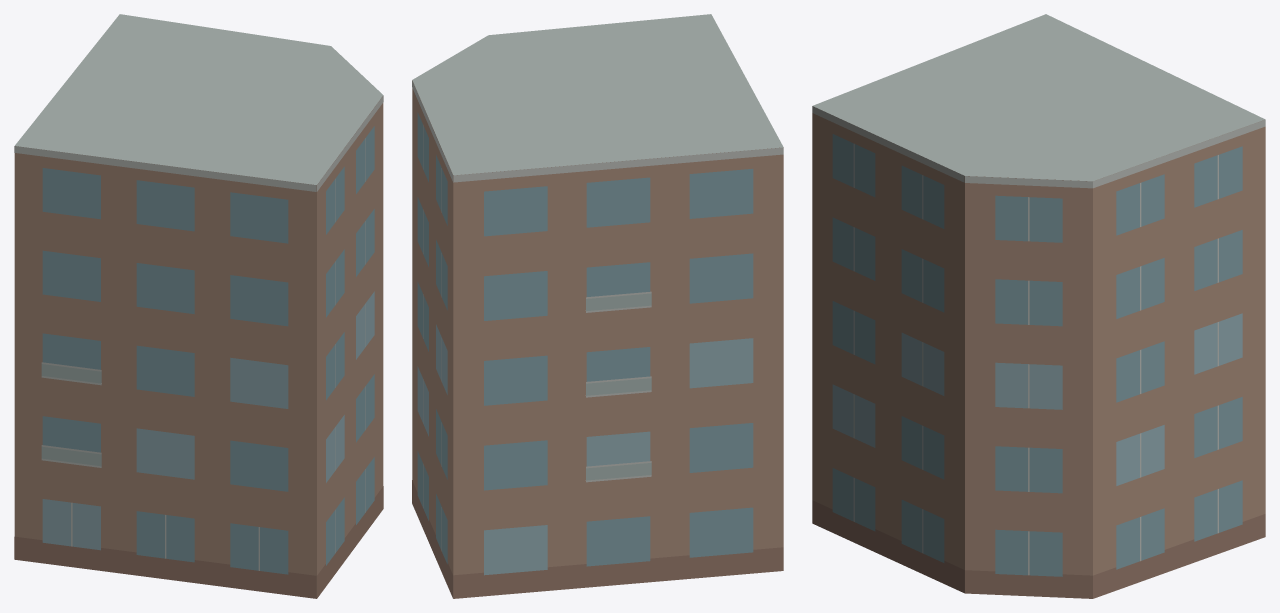
Rendered from survey-upis-32786547.glb.
3 views of the same model, side by side, from view 1: azimuth 30°, elevation 25°; view 2: azimuth 150°, elevation 25°; view 3: azimuth 270°, elevation 25° (orthographic). The views are drawn at different scales.
Visible parts, largest first — view 1: survey-upis-32786547.tmp; view 2: survey-upis-32786547.tmp; view 3: survey-upis-32786547.tmp.
Boxes of the visible parts, x1,y1,x2,y2 form: survey-upis-32786547.tmp: [14, 14, 383, 598]; survey-upis-32786547.tmp: [412, 14, 783, 598]; survey-upis-32786547.tmp: [812, 14, 1265, 598].
Size of the model in its own units: 12.47 by 14.5 by 14.28.
